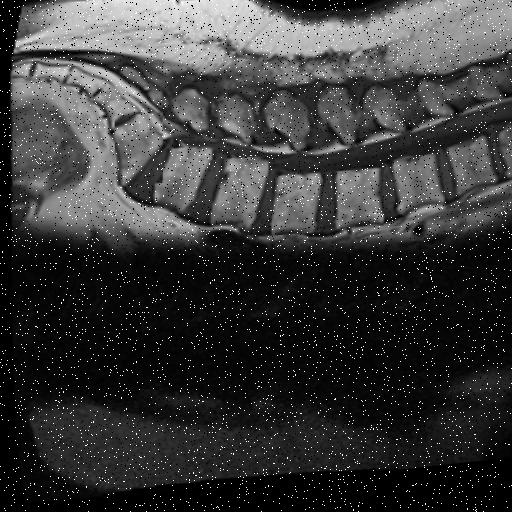L1: (390, 164, 441, 222)
L2: (334, 176, 380, 236)
L3: (268, 180, 317, 240)
L4: (209, 162, 265, 235)
L5: (152, 151, 210, 215)
S1: (112, 116, 160, 188)
